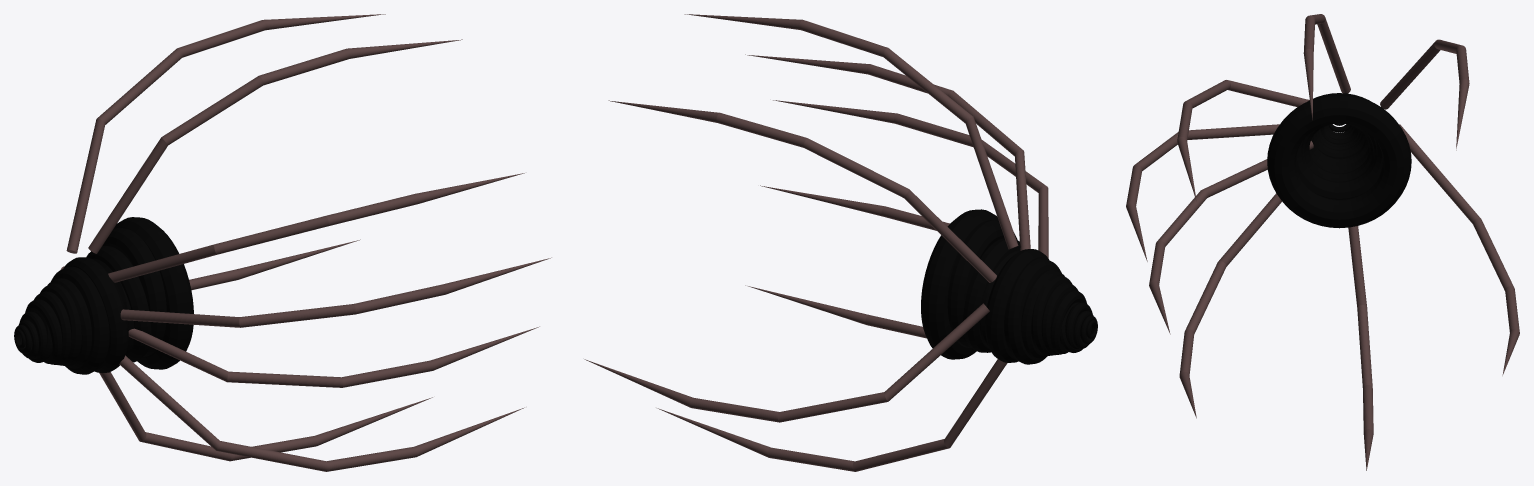
The model's file is Entity.fbx.
3 views of the same model, side by side, from view 1: azimuth 30°, elevation 25°; view 2: azimuth 150°, elevation 25°; view 3: azimuth 270°, elevation 25° (orthographic). The views are drawn at different scales.
Visible parts, largest first — view 1: Cone, Torus; view 2: Cone, Torus; view 3: Cone, Torus.
Part boxes in pixels (left/top/right/bottom): Cone: left=60, top=14, right=551, bottom=471; Torus: left=14, top=217, right=193, bottom=374; Cone: left=584, top=14, right=1048, bottom=471; Torus: left=921, top=209, right=1097, bottom=364; Cone: left=1126, top=14, right=1519, bottom=470; Torus: left=1267, top=93, right=1411, bottom=228.
Bounding box in the file's own units: 1247 × 1160 × 1064.
